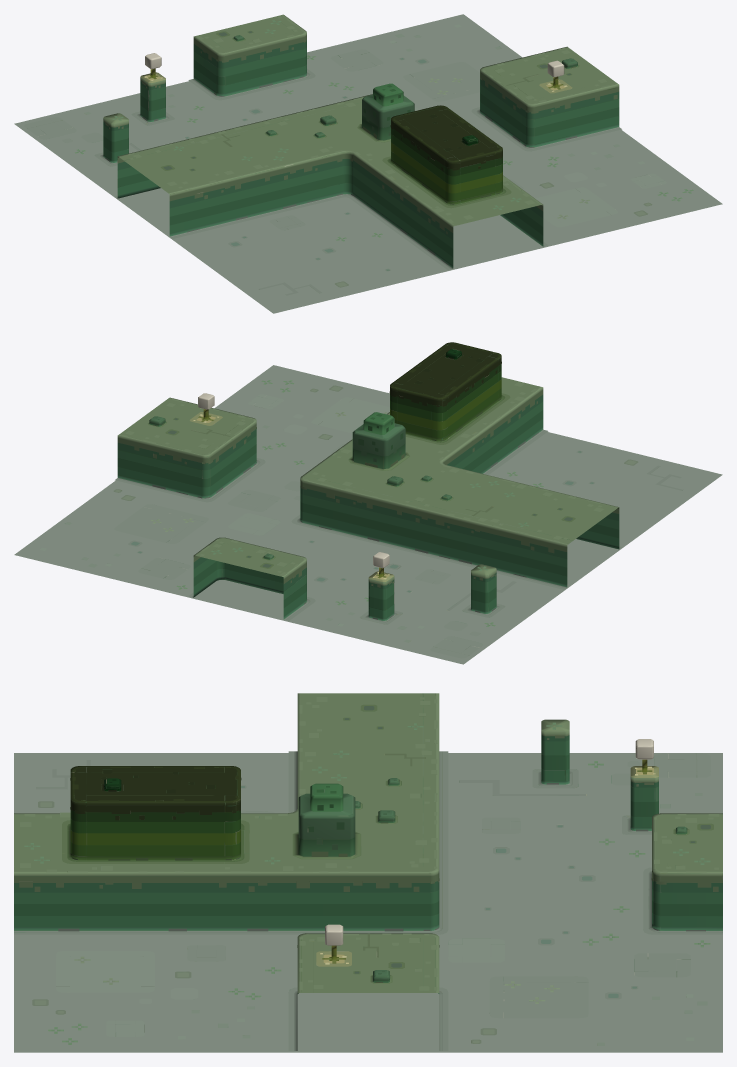
The model's file is C_cave2_05.fbx.
The picture shows the model from 3 angles, top to bottom: view 1: azimuth 30°, elevation 25°; view 2: azimuth 150°, elevation 25°; view 3: azimuth 270°, elevation 25°; orthographic projection. The views are drawn at different scales.
Parts seen in each view (by area): view 1: C_cave2_05; view 2: C_cave2_05; view 3: C_cave2_05.
Boxes of the visible parts, left/top/right/bottom form: C_cave2_05: left=14, top=14, right=722, bottom=313; C_cave2_05: left=14, top=342, right=722, bottom=664; C_cave2_05: left=14, top=693, right=722, bottom=1052.
Size of the model in its own units: 50 by 9.88 by 50.
Materials: 1 (1 with a texture image).
